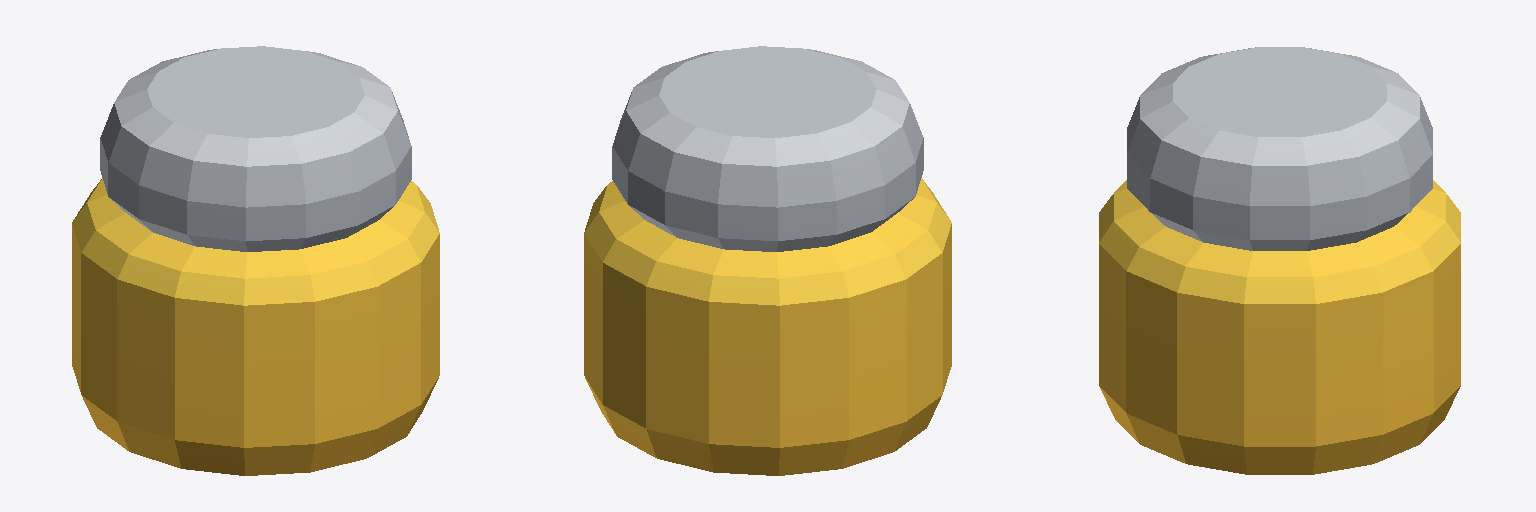
3 views of the same model, side by side, from view 1: azimuth 30°, elevation 25°; view 2: azimuth 150°, elevation 25°; view 3: azimuth 270°, elevation 25° (orthographic).
Visible parts, largest first — view 1: container_bathroom_C_yellow; view 2: container_bathroom_C_yellow; view 3: container_bathroom_C_yellow.
Part boxes in pixels (x1,y1,x2,y2): container_bathroom_C_yellow: (72, 46, 439, 475); container_bathroom_C_yellow: (584, 46, 951, 475); container_bathroom_C_yellow: (1099, 47, 1460, 474).
Bounding box in the file's own units: 0.312 × 0.3119 × 0.3126.
Materials: 1 (1 with a texture image).